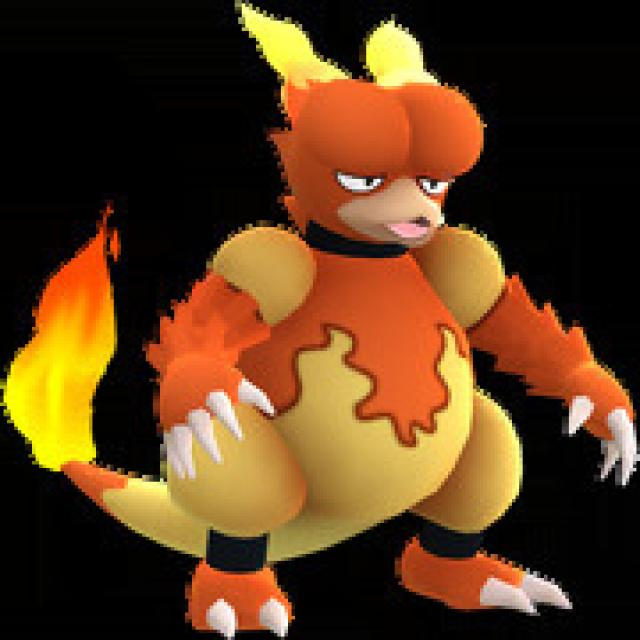Magmar: (153, 24, 510, 601)
